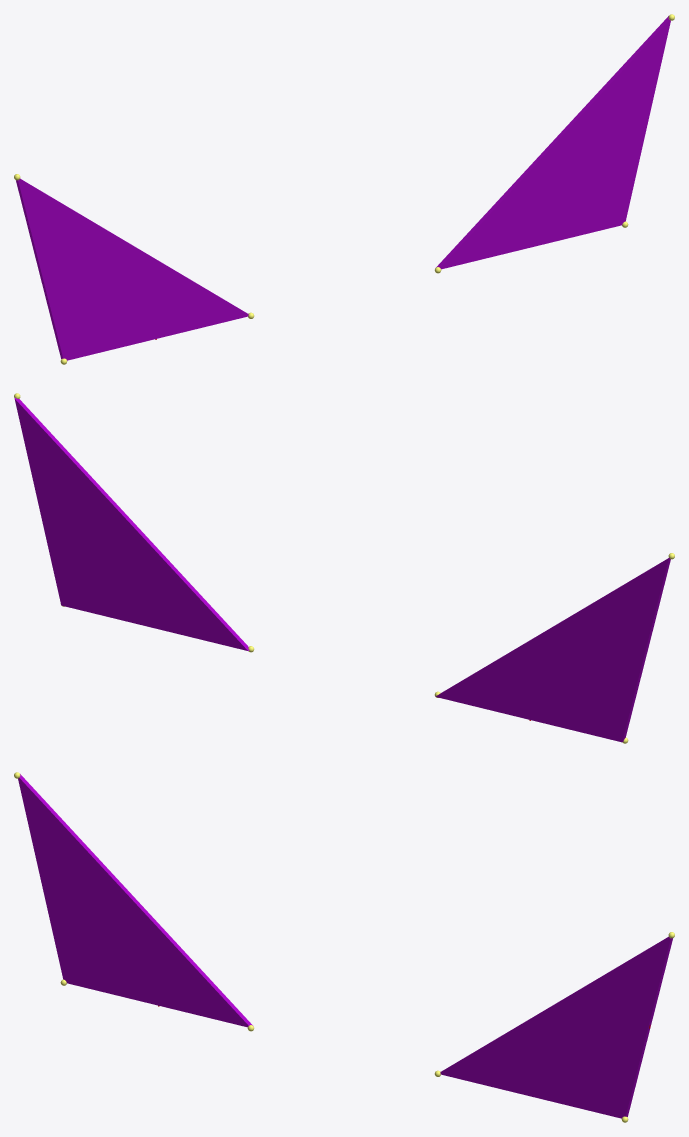
Rendered from congurent-sas-triangle.glb.
3 renders of one model, top to bottom at view 1: azimuth 30°, elevation 25°; view 2: azimuth 150°, elevation 25°; view 3: azimuth 330°, elevation 25°, orthographic.
Visible parts, largest first — view 1: Triangle_PQR, Triangle_ABC; view 2: Triangle_PQR, Triangle_ABC; view 3: Triangle_ABC, Triangle_PQR.
Boxes of the visible parts, x1=… form: Triangle_PQR: x1=436, y1=16, x2=670, y2=269; Triangle_ABC: x1=16, y1=178, x2=248, y2=360; Triangle_PQR: x1=14, y1=398, x2=249, y2=650; Triangle_ABC: x1=435, y1=557, x2=670, y2=742; Triangle_ABC: x1=18, y1=774, x2=252, y2=1027; Triangle_PQR: x1=440, y1=936, x2=672, y2=1118.
Size of the model in its own units: 7.06 by 2.06 by 0.08.
